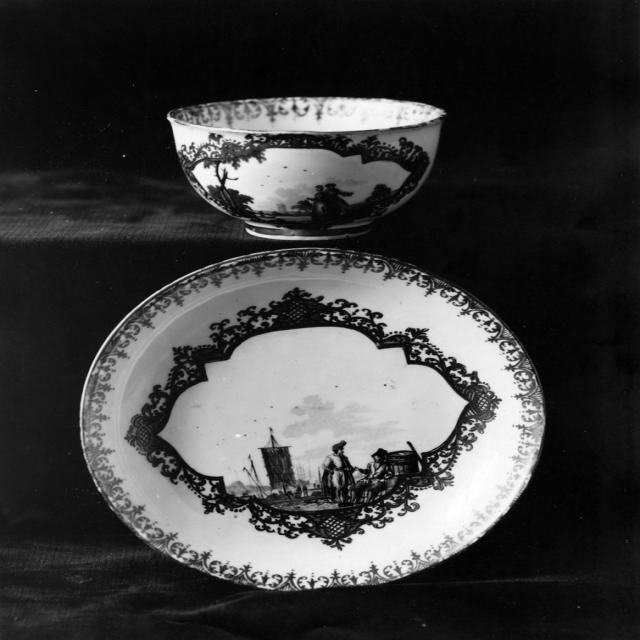ceramic plate: (64, 217, 558, 608)
